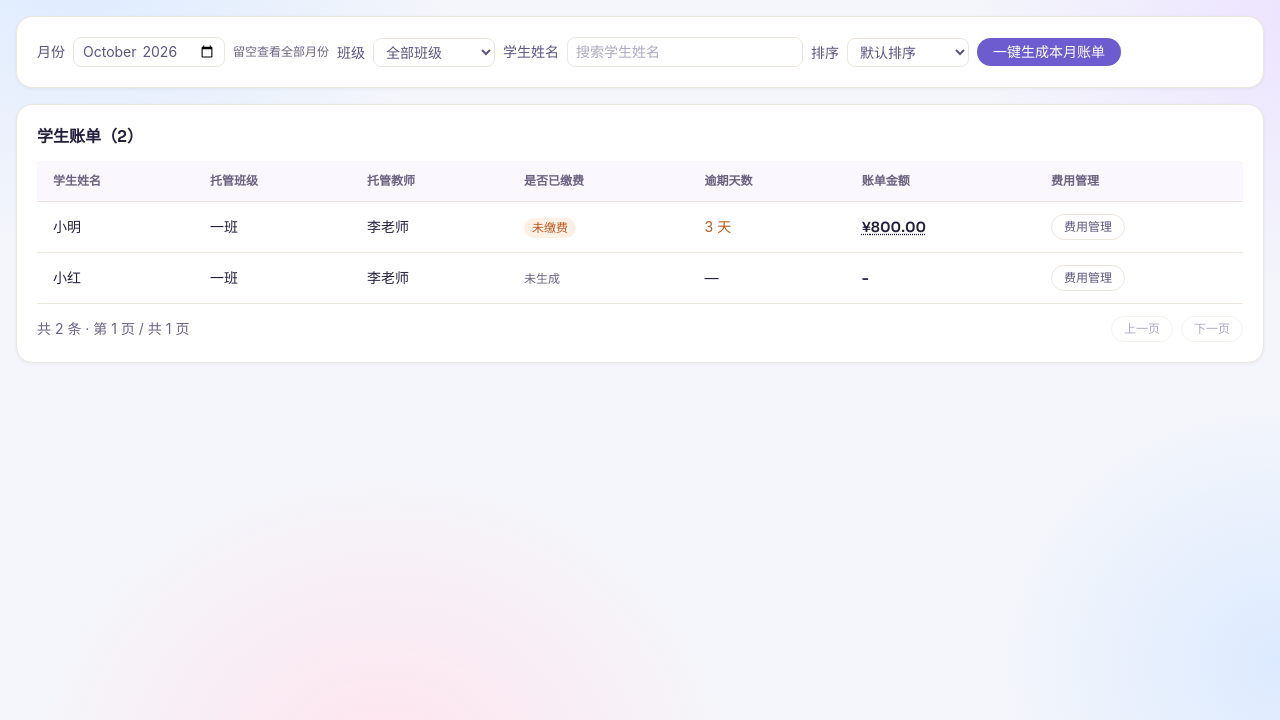
Test case: AdminBillingModule › bulk-generates bills for the selected month and current filters, reloads the overview, and shows a success summary
Expected: the text "小明" is shown, [37,202,194,252]
Click the button "一键生成本月账单": coordinates (1049, 52) [977,38,1121,66]
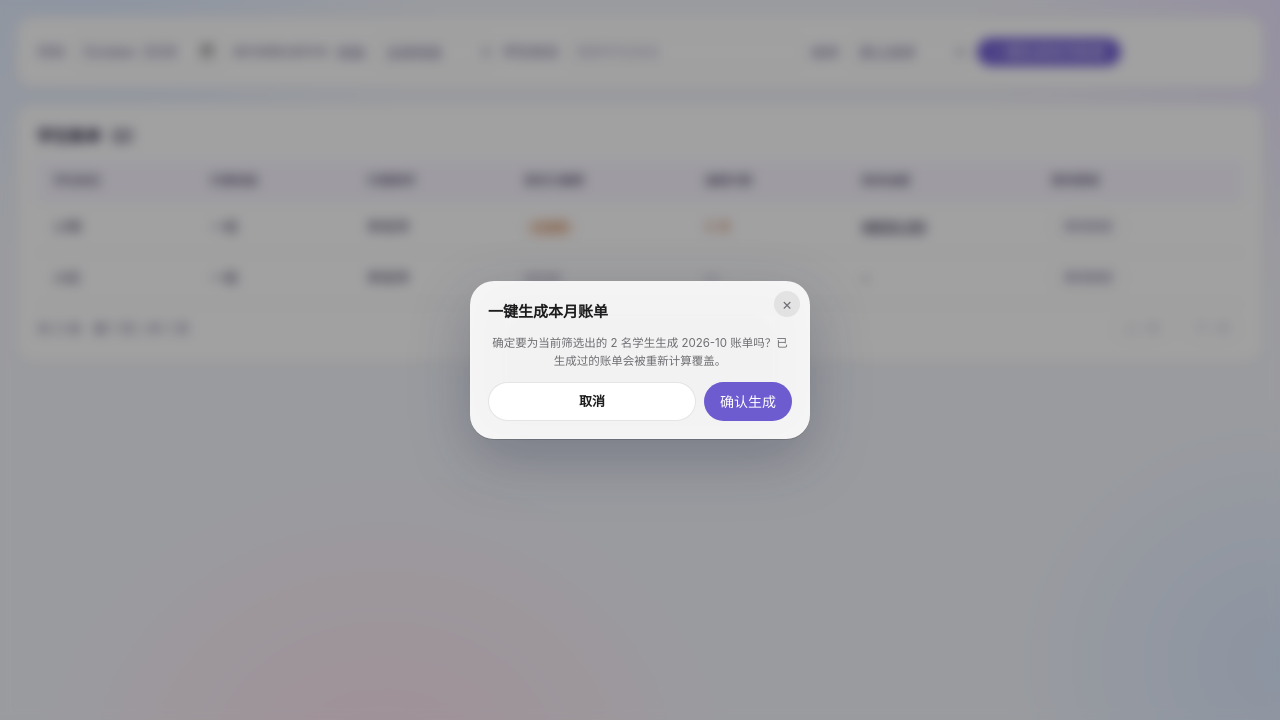
Click the button "确认生成": coordinates (748, 402) [704,382,792,421]
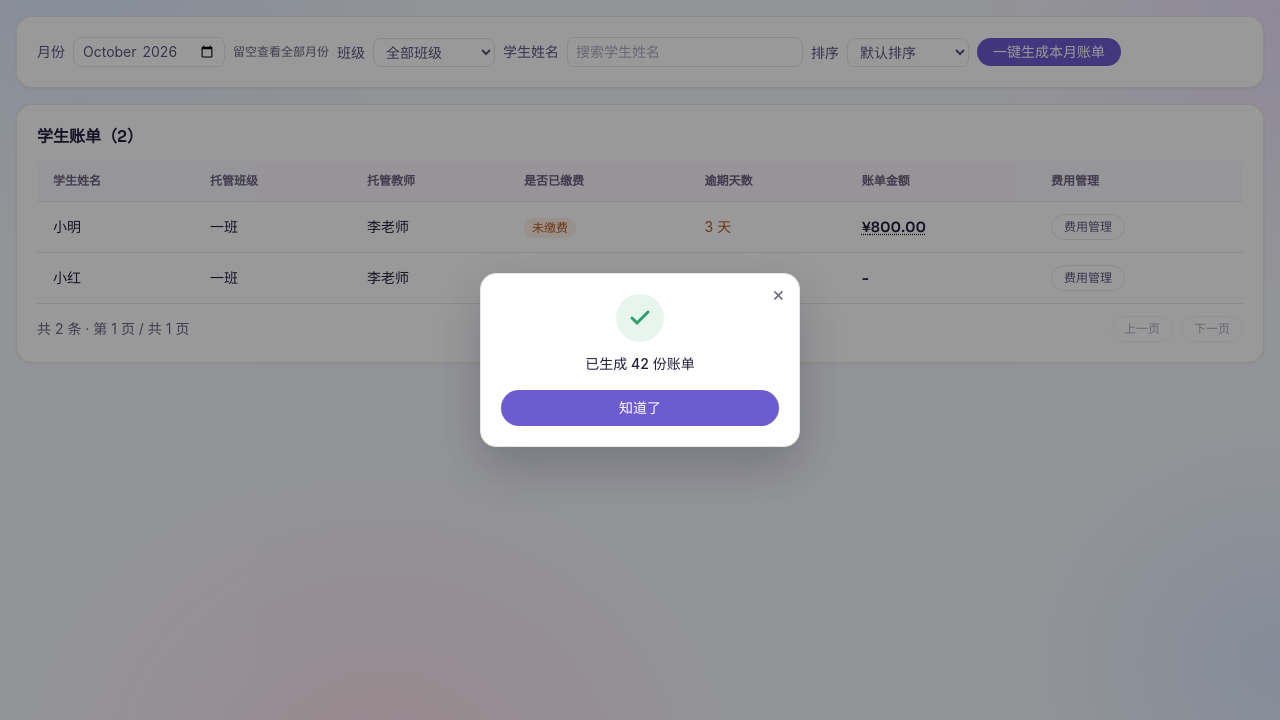
Expected: the dialog named "账单生成完成" is shown, [480,273,800,447]
Expected: the text "已生成 42 份账单" is shown, [585,355,695,372]
